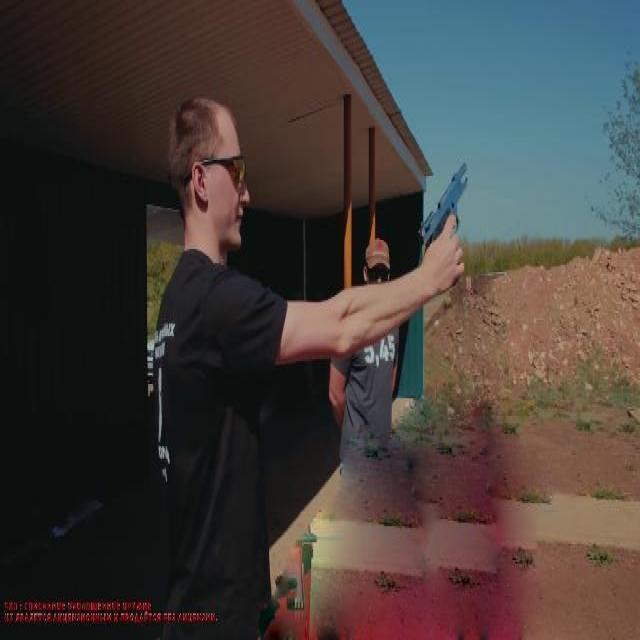pistol: (423, 164, 471, 276)
